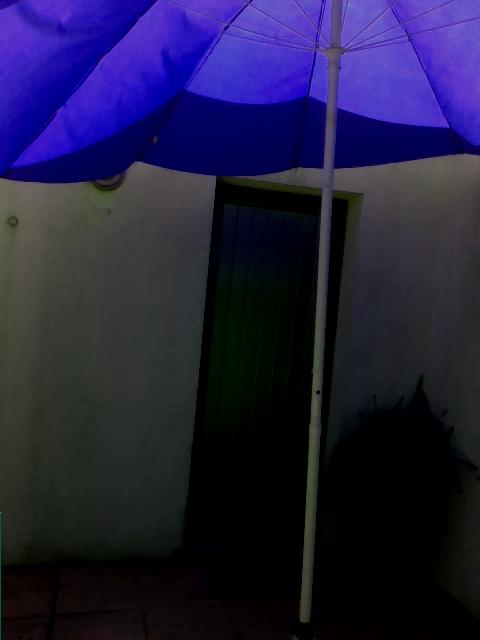closed_door: (195, 180, 350, 543)
